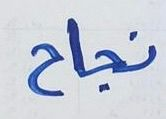alef: (67, 15, 87, 80)
jeem: (24, 41, 65, 98), (89, 47, 124, 94)
noon: (126, 31, 159, 74)
